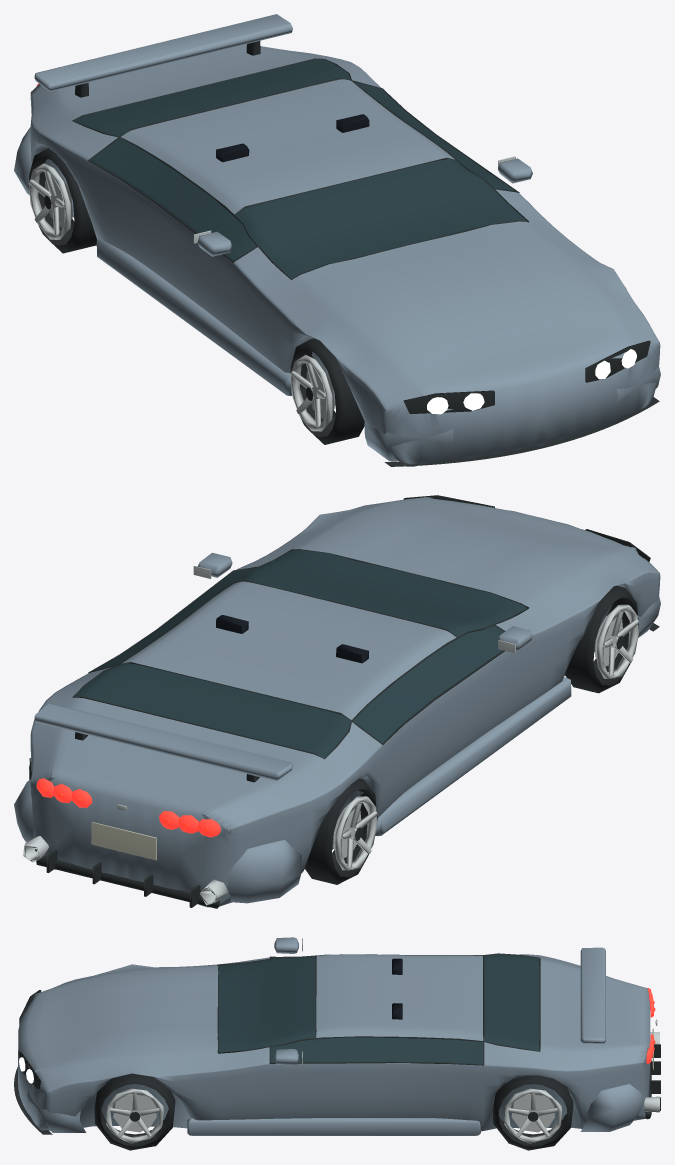
Rendered from tyvoro-cavryn.glb.
3 renders of one model, top to bottom at view 1: azimuth 30°, elevation 25°; view 2: azimuth 150°, elevation 25°; view 3: azimuth 270°, elevation 25°, orthographic. The views are drawn at different scales.
Visible parts, largest first — view 1: scocca, cofano, tetto, cristallo_ant, porta_sx, portellone, cristallo_post, cristallo_sx, spoiler, minigonna_sx, ruota_ant_sx_gomma, ruota_post_sx_gomma (+13 smaller); view 2: scocca, tetto, cofano, portellone, cristallo_post, cristallo_ant, porta_sx, cristallo_sx, spoiler, minigonna_sx, paraurti_post, ruota_ant_sx_gomma (+12 smaller); view 3: scocca, cofano, tetto, porta_dx, cristallo_ant, portellone, cristallo_post, minigonna_dx, cristallo_dx, spoiler, ruota_ant_dx_gomma, paraurti_post (+14 smaller).
Boxes of the visible parts, bbox=[...] form: scocca: bbox=[30, 50, 660, 466]; cofano: bbox=[291, 221, 632, 386]; tetto: bbox=[121, 79, 454, 214]; cristallo_ant: bbox=[235, 159, 526, 279]; porta_sx: bbox=[88, 161, 248, 343]; portellone: bbox=[51, 44, 320, 120]; cristallo_post: bbox=[74, 59, 350, 136]; cristallo_sx: bbox=[90, 138, 256, 260]; spoiler: bbox=[34, 14, 292, 91]; minigonna_sx: bbox=[96, 239, 291, 395]; ruota_ant_sx_gomma: bbox=[290, 338, 364, 444]; ruota_post_sx_gomma: bbox=[29, 148, 96, 253]; scocca: bbox=[30, 497, 660, 907]; tetto: bbox=[122, 581, 456, 720]; cofano: bbox=[294, 498, 632, 608]; portellone: bbox=[46, 697, 324, 818]; cristallo_post: bbox=[74, 663, 351, 758]; cristallo_ant: bbox=[238, 550, 527, 637]; porta_sx: bbox=[377, 643, 530, 818]; cristallo_sx: bbox=[353, 625, 503, 743]; spoiler: bbox=[34, 703, 292, 780]; minigonna_sx: bbox=[375, 677, 571, 836]; paraurti_post: bbox=[14, 779, 301, 903]; ruota_ant_sx_gomma: bbox=[564, 585, 638, 693]; scocca: bbox=[18, 954, 650, 1130]; cofano: bbox=[41, 965, 218, 1072]; tetto: bbox=[316, 954, 483, 1040]; porta_dx: bbox=[254, 1063, 483, 1131]; cristallo_ant: bbox=[218, 955, 315, 1052]; portellone: bbox=[540, 958, 650, 1054]; cristallo_post: bbox=[484, 954, 539, 1051]; minigonna_dx: bbox=[187, 1118, 480, 1135]; cristallo_dx: bbox=[270, 1037, 483, 1064]; spoiler: bbox=[580, 947, 605, 1043]; ruota_ant_dx_gomma: bbox=[94, 1073, 175, 1150]; paraurti_post: bbox=[580, 1084, 648, 1131].
Size of the model in its own units: 2.36 by 1.01 by 5.39.
